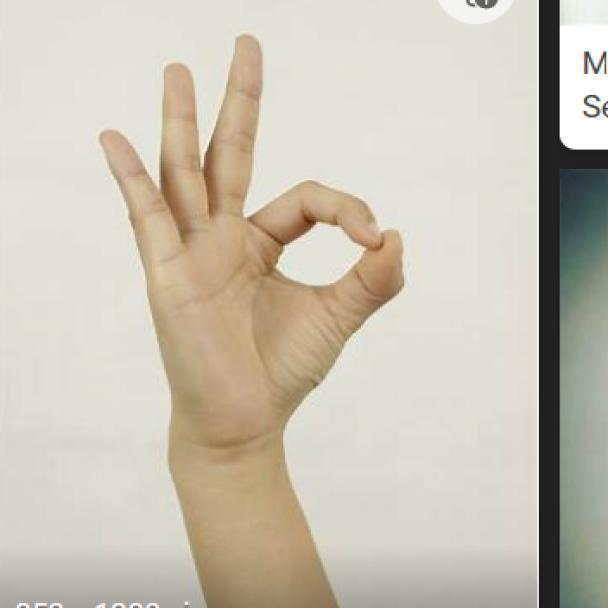five: (95, 31, 415, 479)
